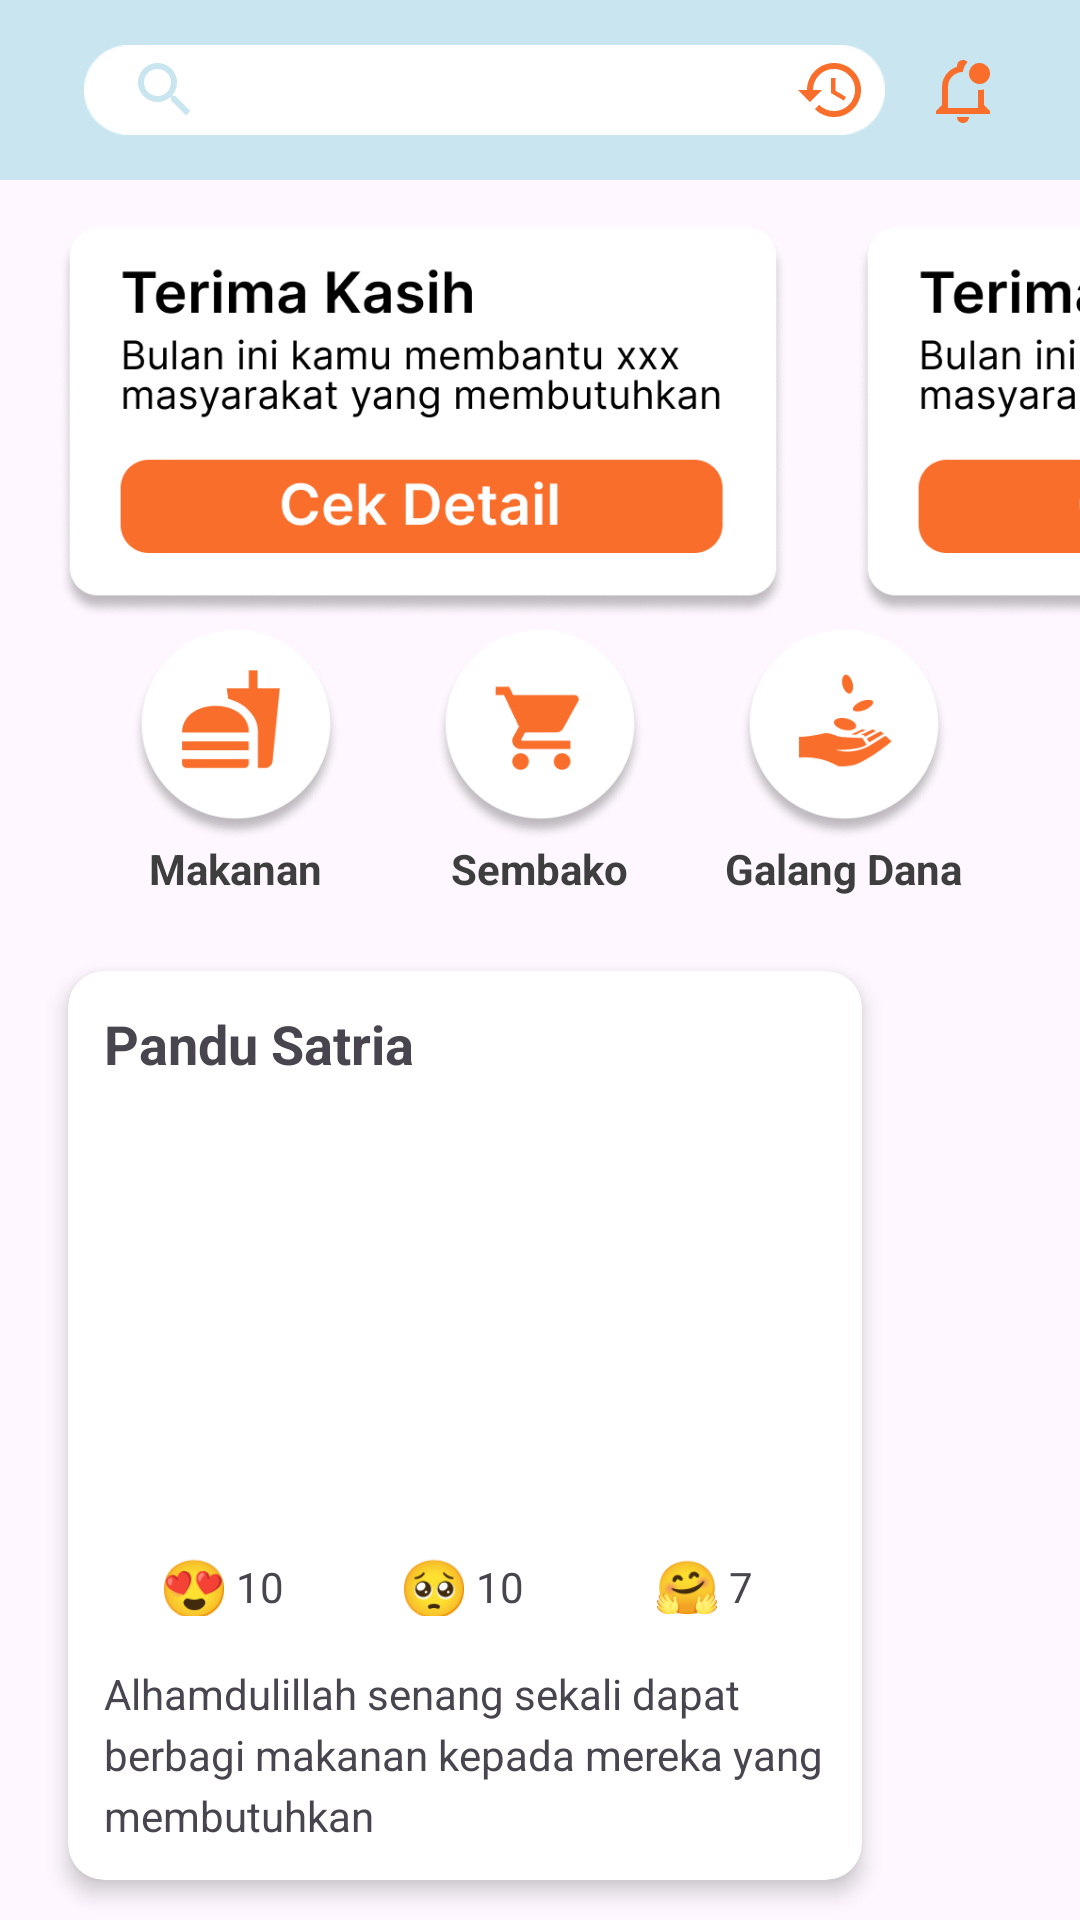

Point at icon controls on the screen. Image size 1080×1920, points as (x,y).
emot haru: (434,1587)
emot hug: (687,1587)
history: (829,90)
notif: (963,91)
search: (164,89)
